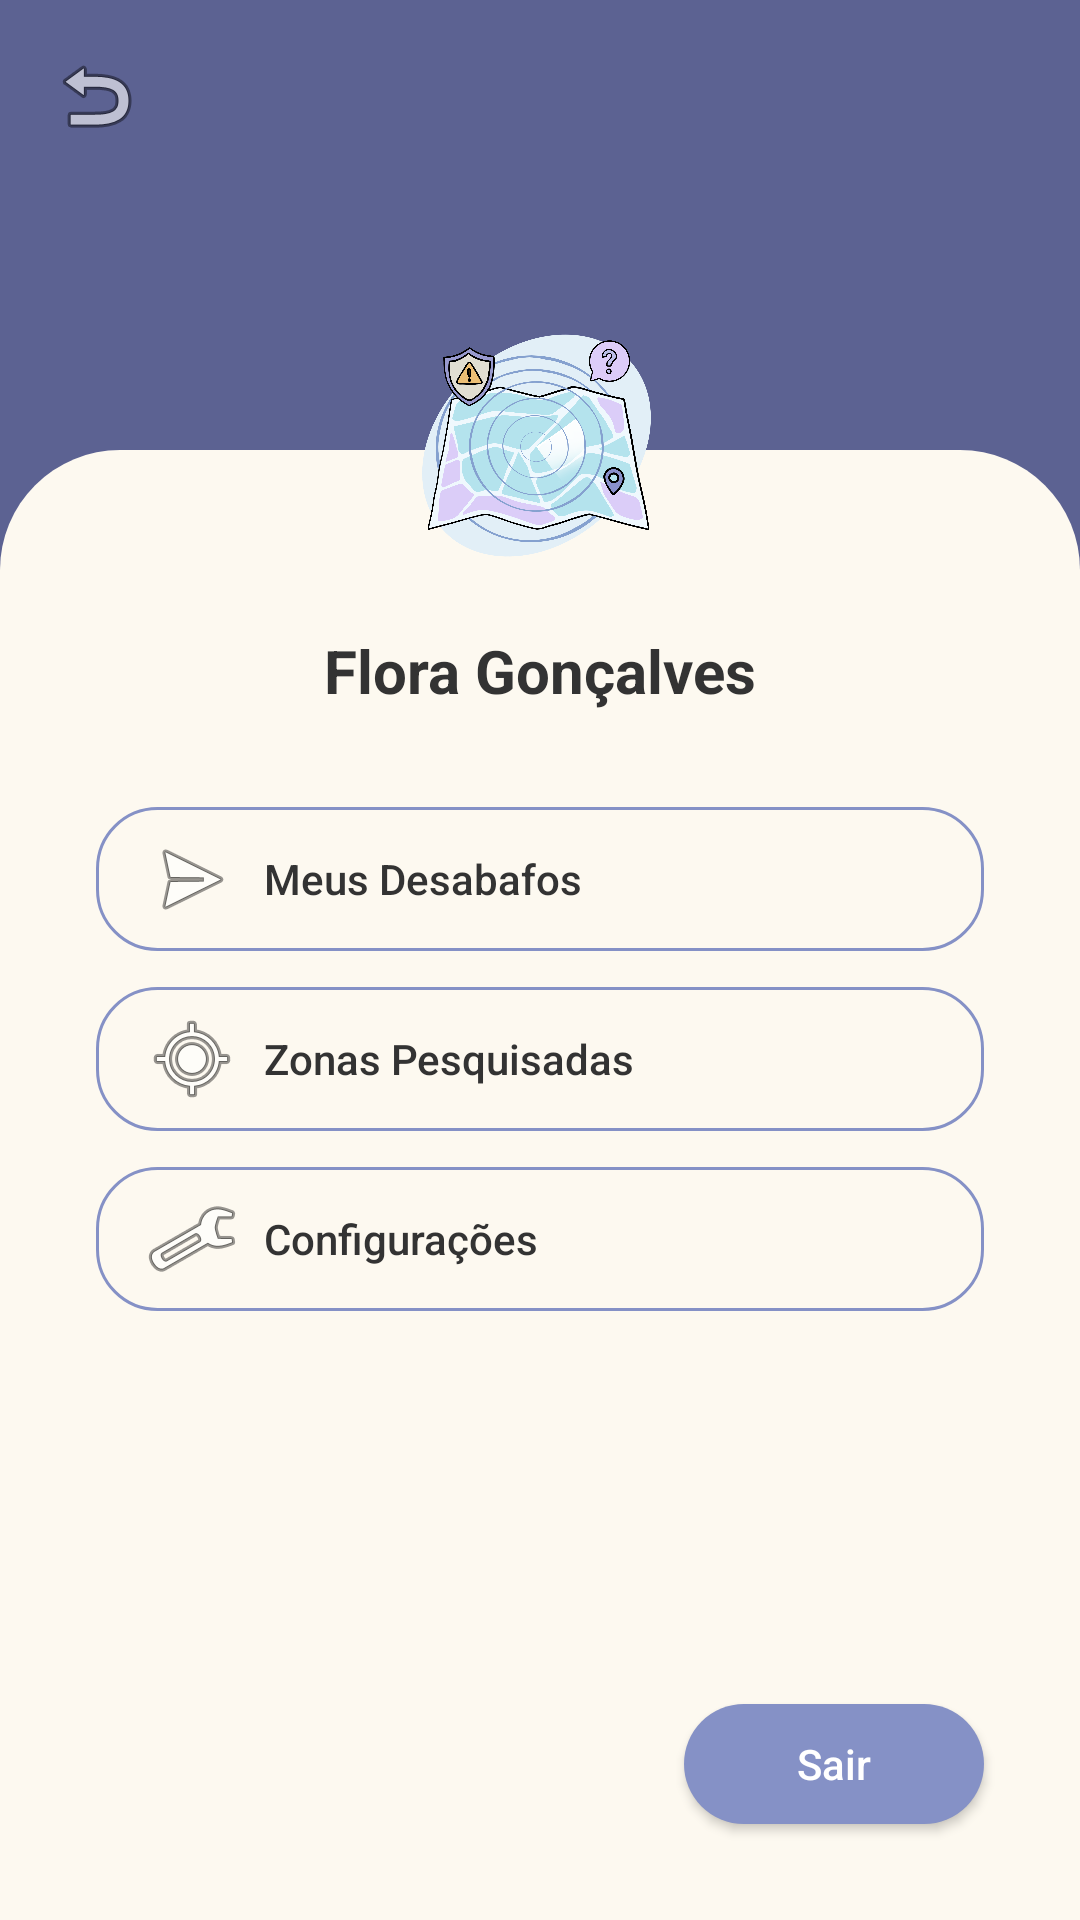

Named icons in this screenshot (1080*1920) and their centers, point (x, y):
imagem: point (540, 449)
Voltar: point (97, 97)
